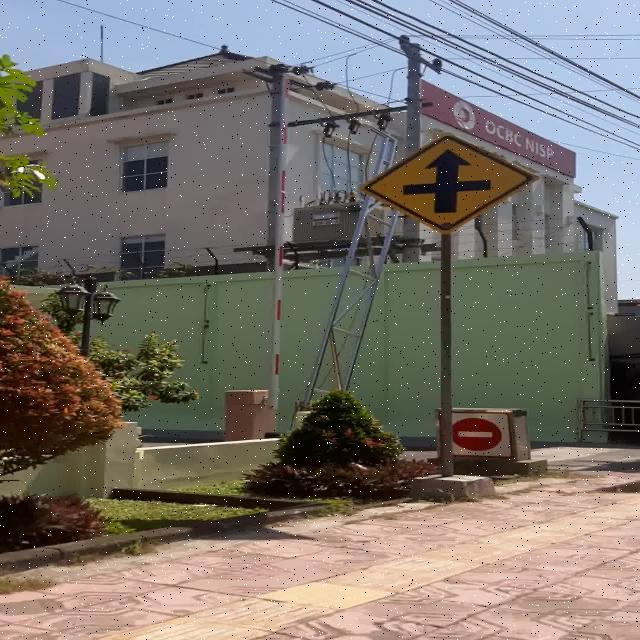Persimpangan 3 Prioritas: (358, 132, 540, 236)
